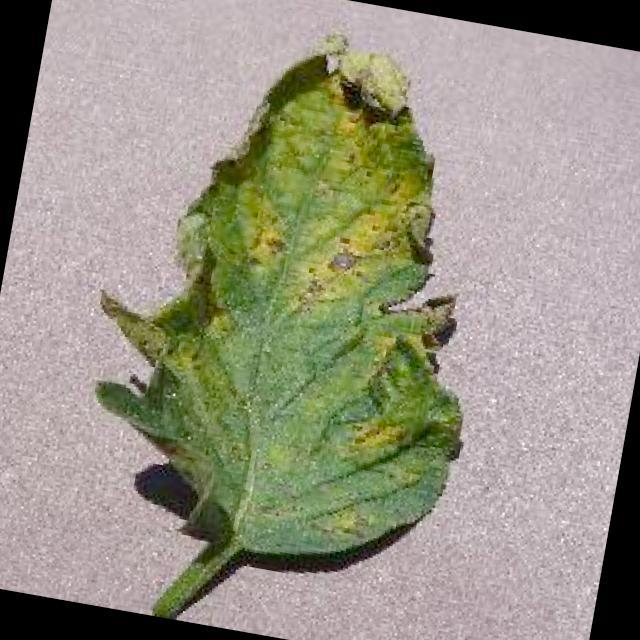Tomato Septoria spot leaf: (60, 0, 529, 587)
